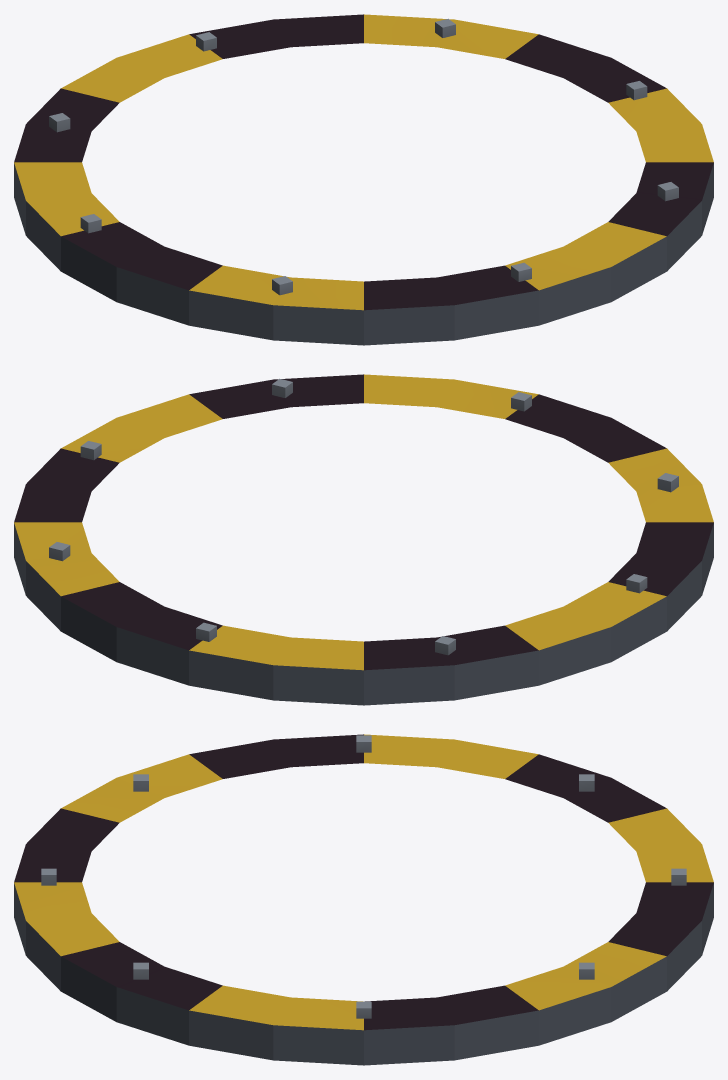
Rendered from m_plate.glb.
3 views of the same model, one above another, from view 1: azimuth 30°, elevation 25°; view 2: azimuth 150°, elevation 25°; view 3: azimuth 270°, elevation 25° (orthographic).
Visible parts, largest first — view 1: m_plate; view 2: m_plate; view 3: m_plate.
Part boxes in pixels (left/top/right/bottom): m_plate: left=14, top=14, right=713, bottom=345; m_plate: left=14, top=374, right=713, bottom=705; m_plate: left=14, top=734, right=713, bottom=1065.
Size of the model in its own units: 3.6 by 0.26 by 3.6.
